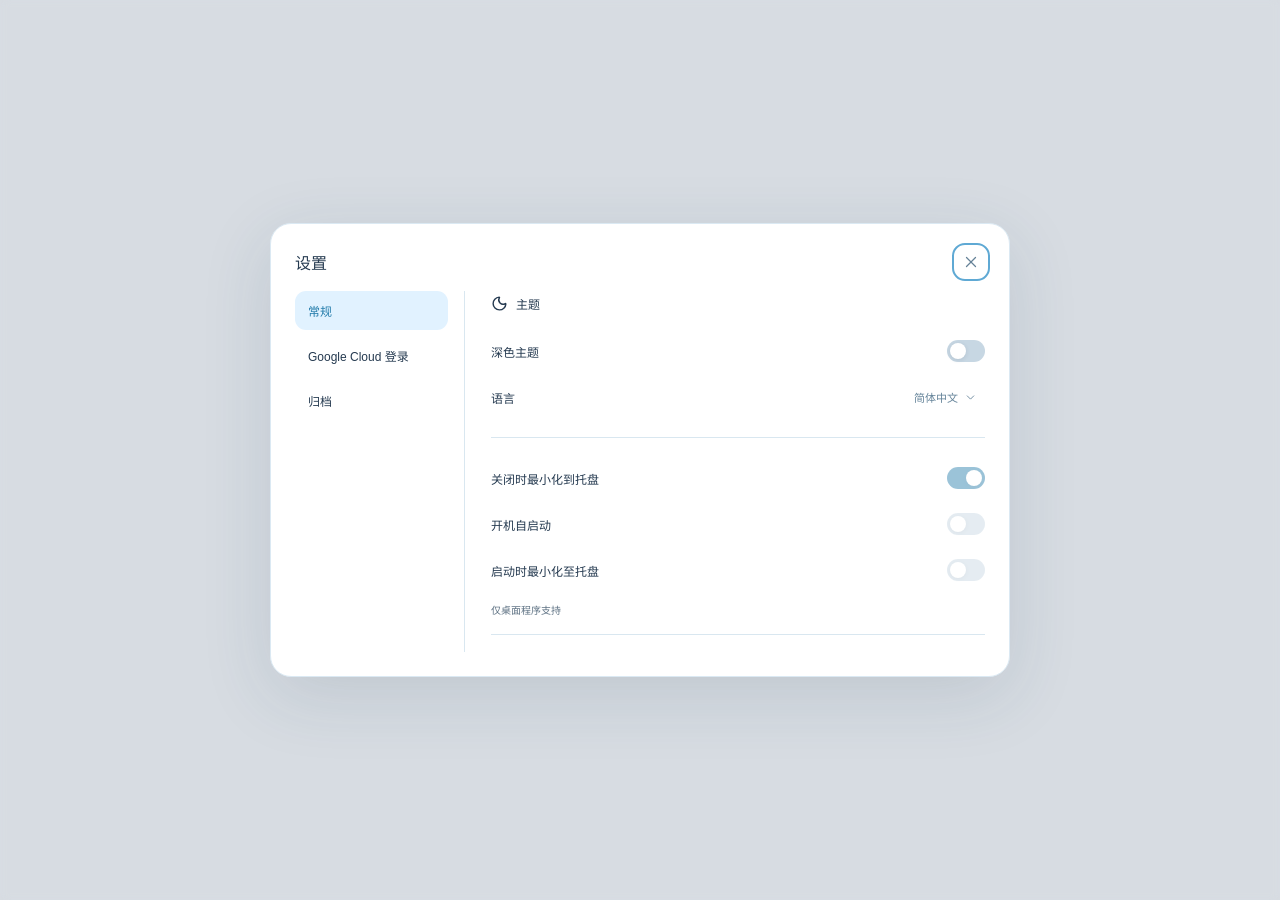
Test: 主题与语言实际应用并保存，浏览器禁用桌面专属开关
The width and height of the screenshot is (1280, 900).
Click the switch named "深色主题": (966, 351) [947,340,985,362]
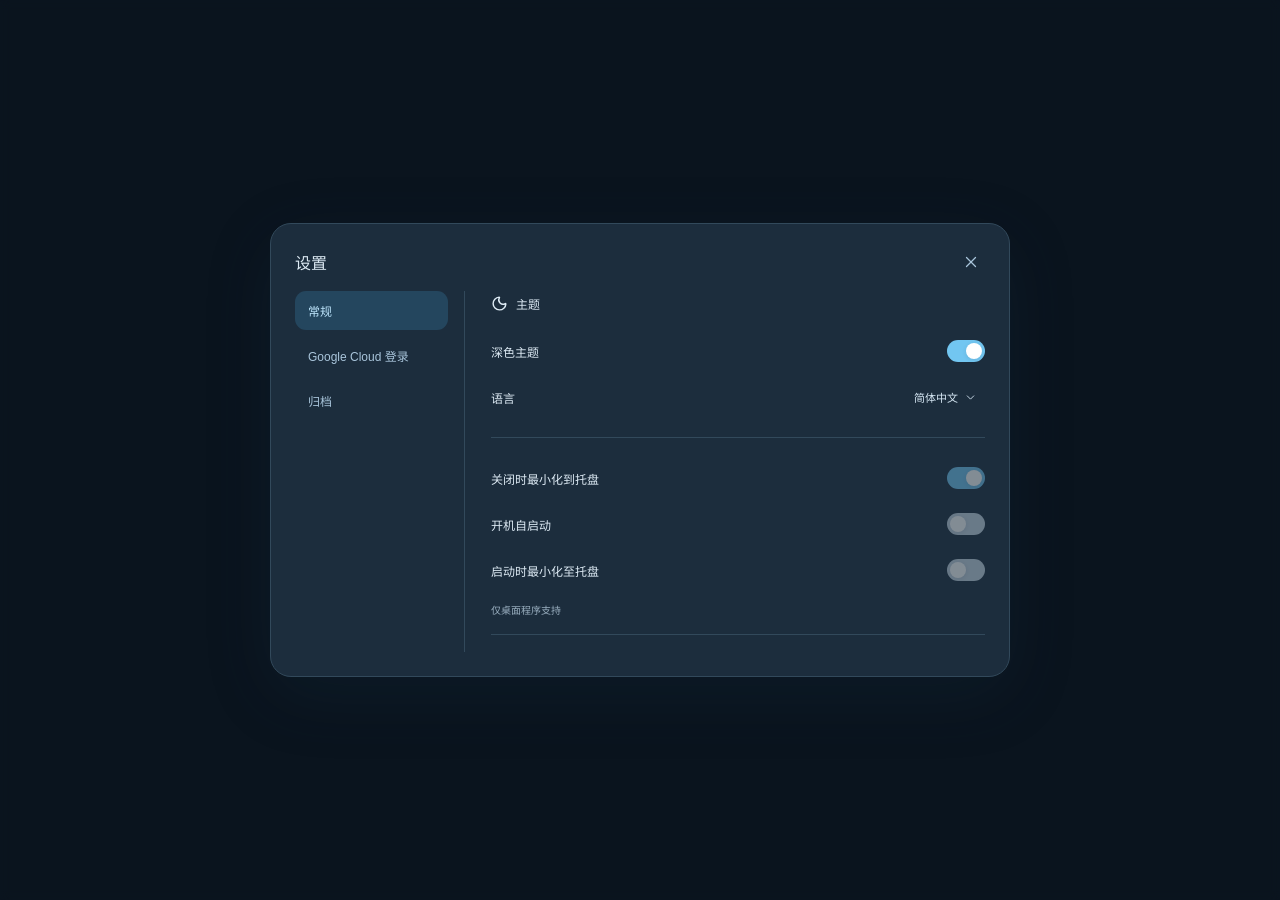
Expected: the switch named "开机自启动" is disabled, [947,513,985,535]
Click the button with aria-label "语言：简体中文": (946, 397) [906,382,985,412]
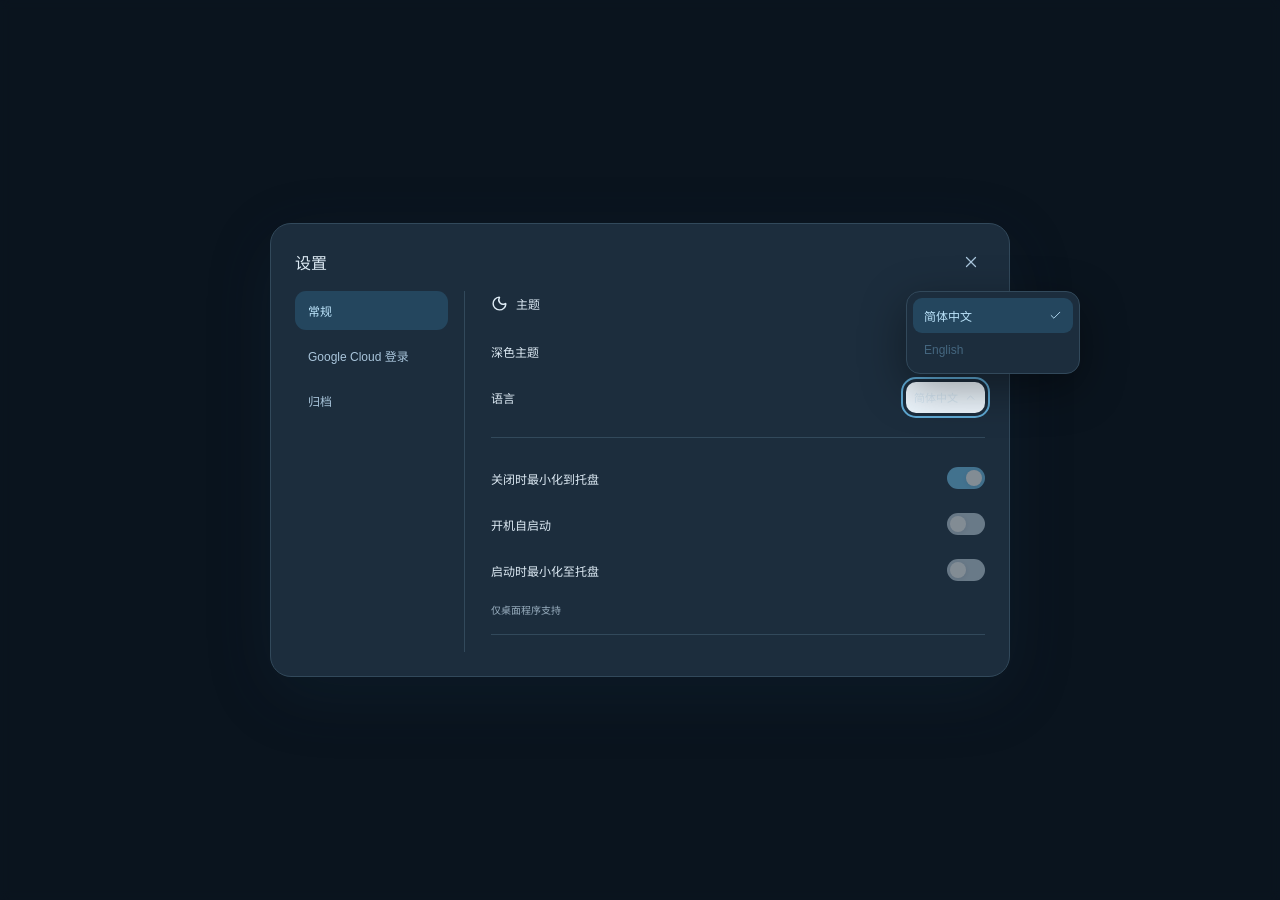
Click the option "English": (993, 350) [913,332,1073,366]
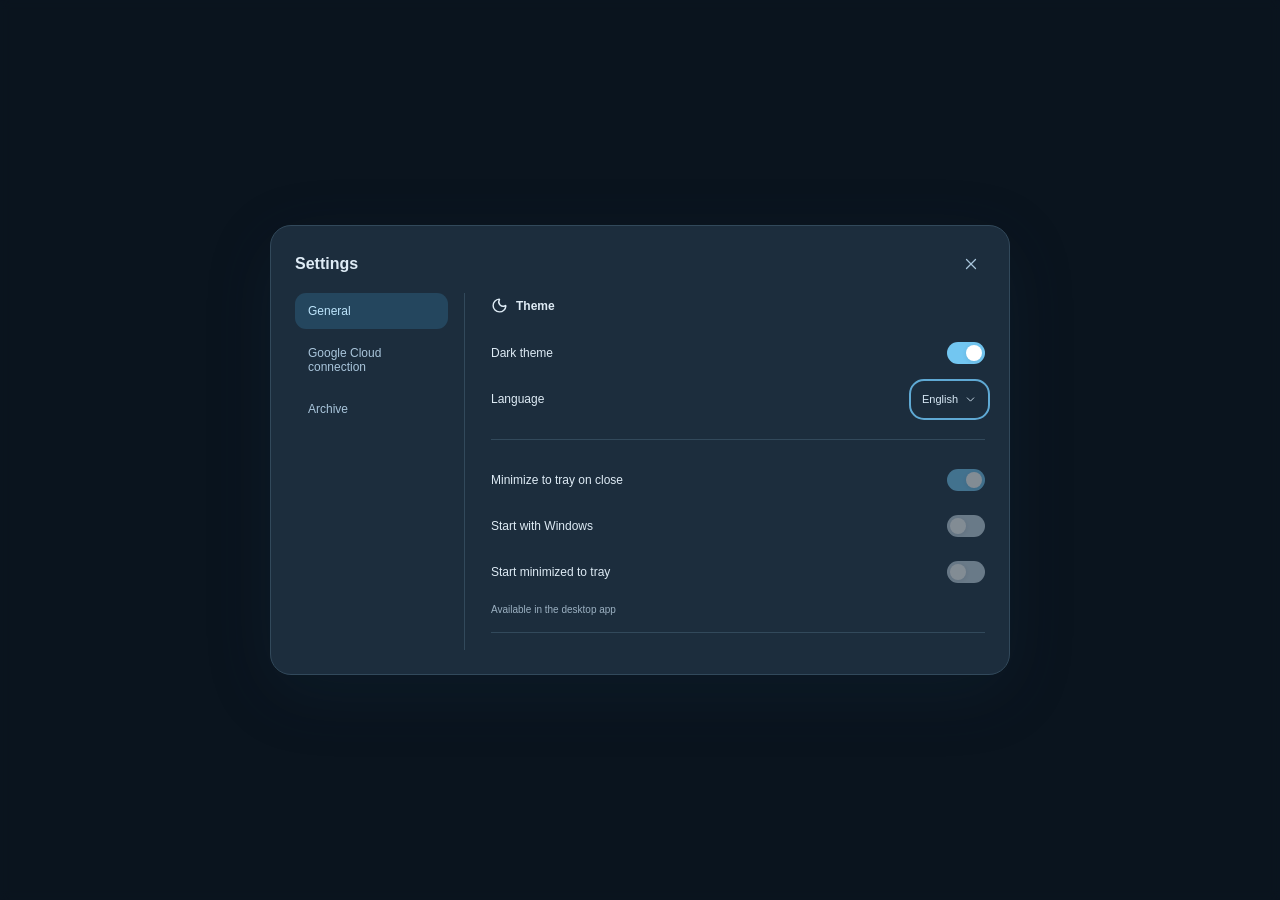
Result: the dialog "Settings" is shown at [270,225,1010,675]
Result: the switch named "Dark theme" is shown at [947,342,985,364]
